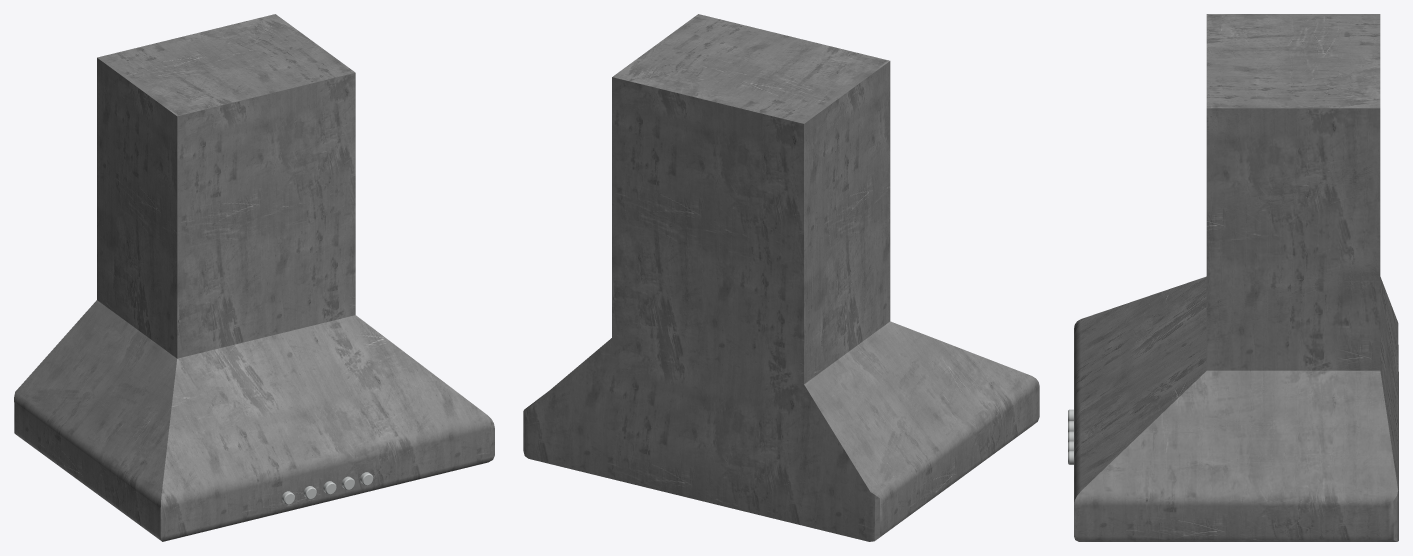
The model's file is Cooker_Hood.fbx.
3 renders of one model, left to right at view 1: azimuth 30°, elevation 25°; view 2: azimuth 150°, elevation 25°; view 3: azimuth 270°, elevation 25°, orthographic. The views are drawn at different scales.
Parts seen in each view (by area): view 1: polySurface2; view 2: polySurface2; view 3: polySurface2.
Boxes of the visible parts, x1,y1,x2,y2 form: polySurface2: (14, 14, 494, 541); polySurface2: (523, 14, 1039, 541); polySurface2: (1074, 14, 1398, 541).
Bounding box in the file's own units: 2.41 × 2.53 × 1.91.
